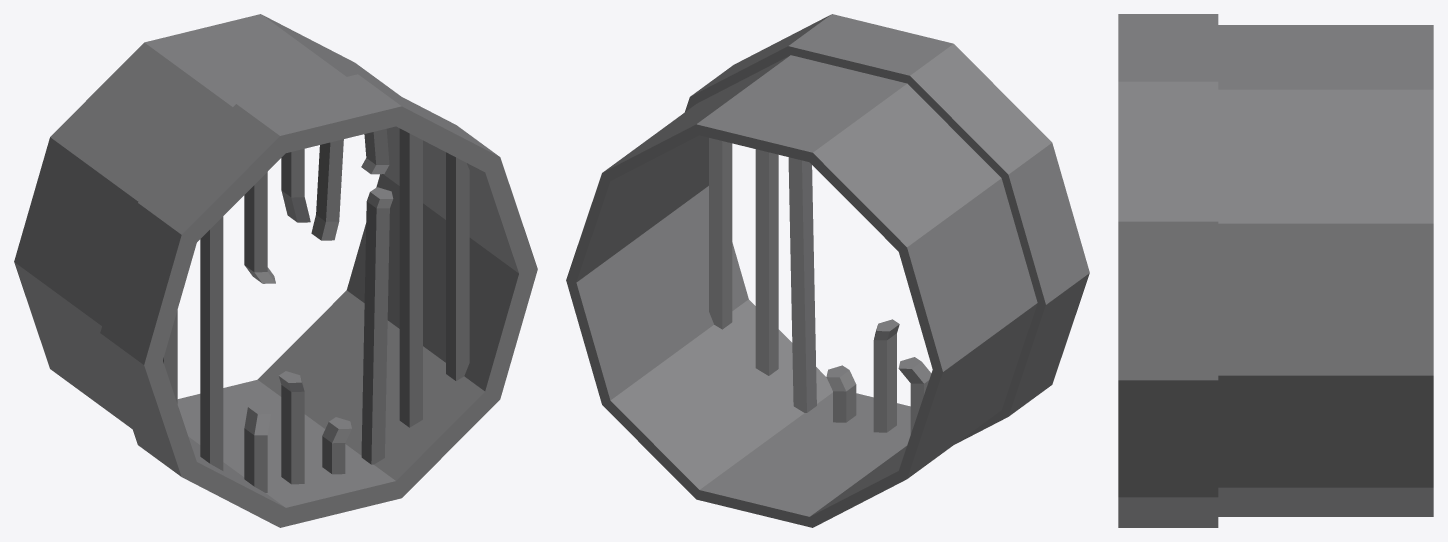
Rendered from TuberiaRota.fbx.
3 views of the same model, side by side, from view 1: azimuth 30°, elevation 25°; view 2: azimuth 150°, elevation 25°; view 3: azimuth 270°, elevation 25° (orthographic). The views are drawn at different scales.
Visible parts, largest first — view 1: pCylinder11; view 2: pCylinder11; view 3: pCylinder11.
Boxes of the visible parts, <box> form: pCylinder11: <box>14,14,537,527</box>; pCylinder11: <box>566,14,1089,527</box>; pCylinder11: <box>1118,14,1433,527</box>.
Bounding box in the file's own units: 2 × 1.9 × 1.22.
